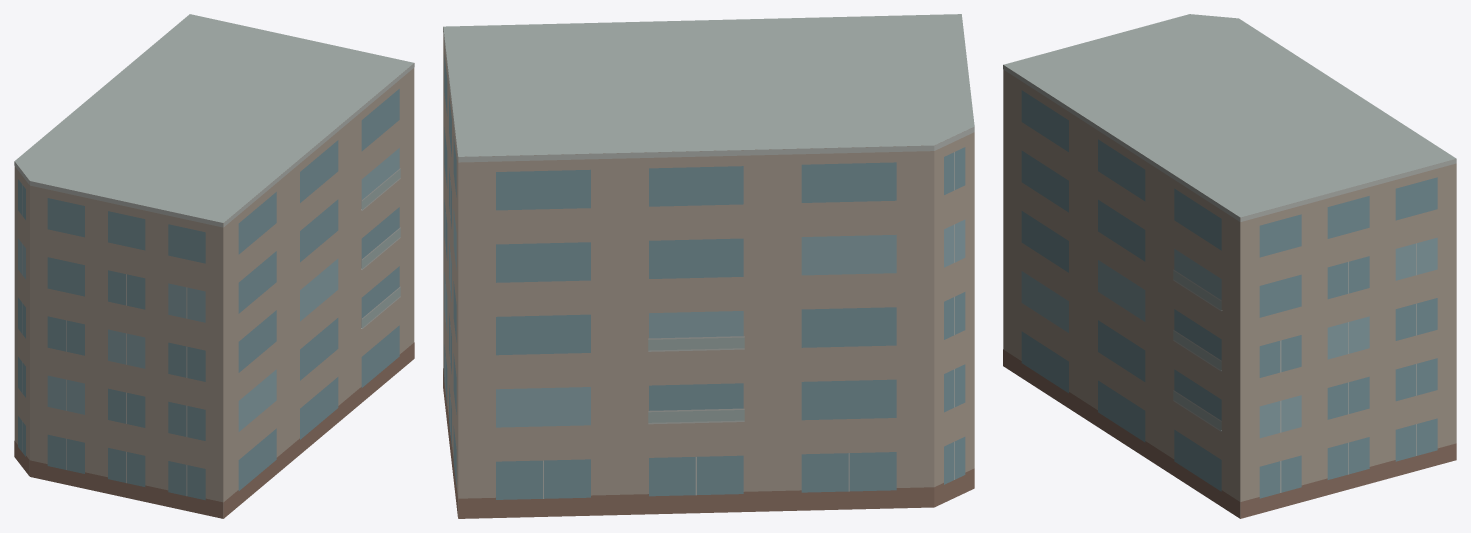
File: survey-upis-32591512.glb
The picture shows the model from 3 angles, left to right: view 1: azimuth 30°, elevation 25°; view 2: azimuth 150°, elevation 25°; view 3: azimuth 270°, elevation 25°; orthographic projection. The views are drawn at different scales.
Visible parts, largest first — view 1: survey-upis-32591512.tmp; view 2: survey-upis-32591512.tmp; view 3: survey-upis-32591512.tmp.
Part boxes in pixels (x1,y1,x2,y2): survey-upis-32591512.tmp: (14,14,414,518); survey-upis-32591512.tmp: (443,14,974,518); survey-upis-32591512.tmp: (1003,14,1456,518).
Size of the model in its own units: 22.9 by 15.8 by 21.56.
